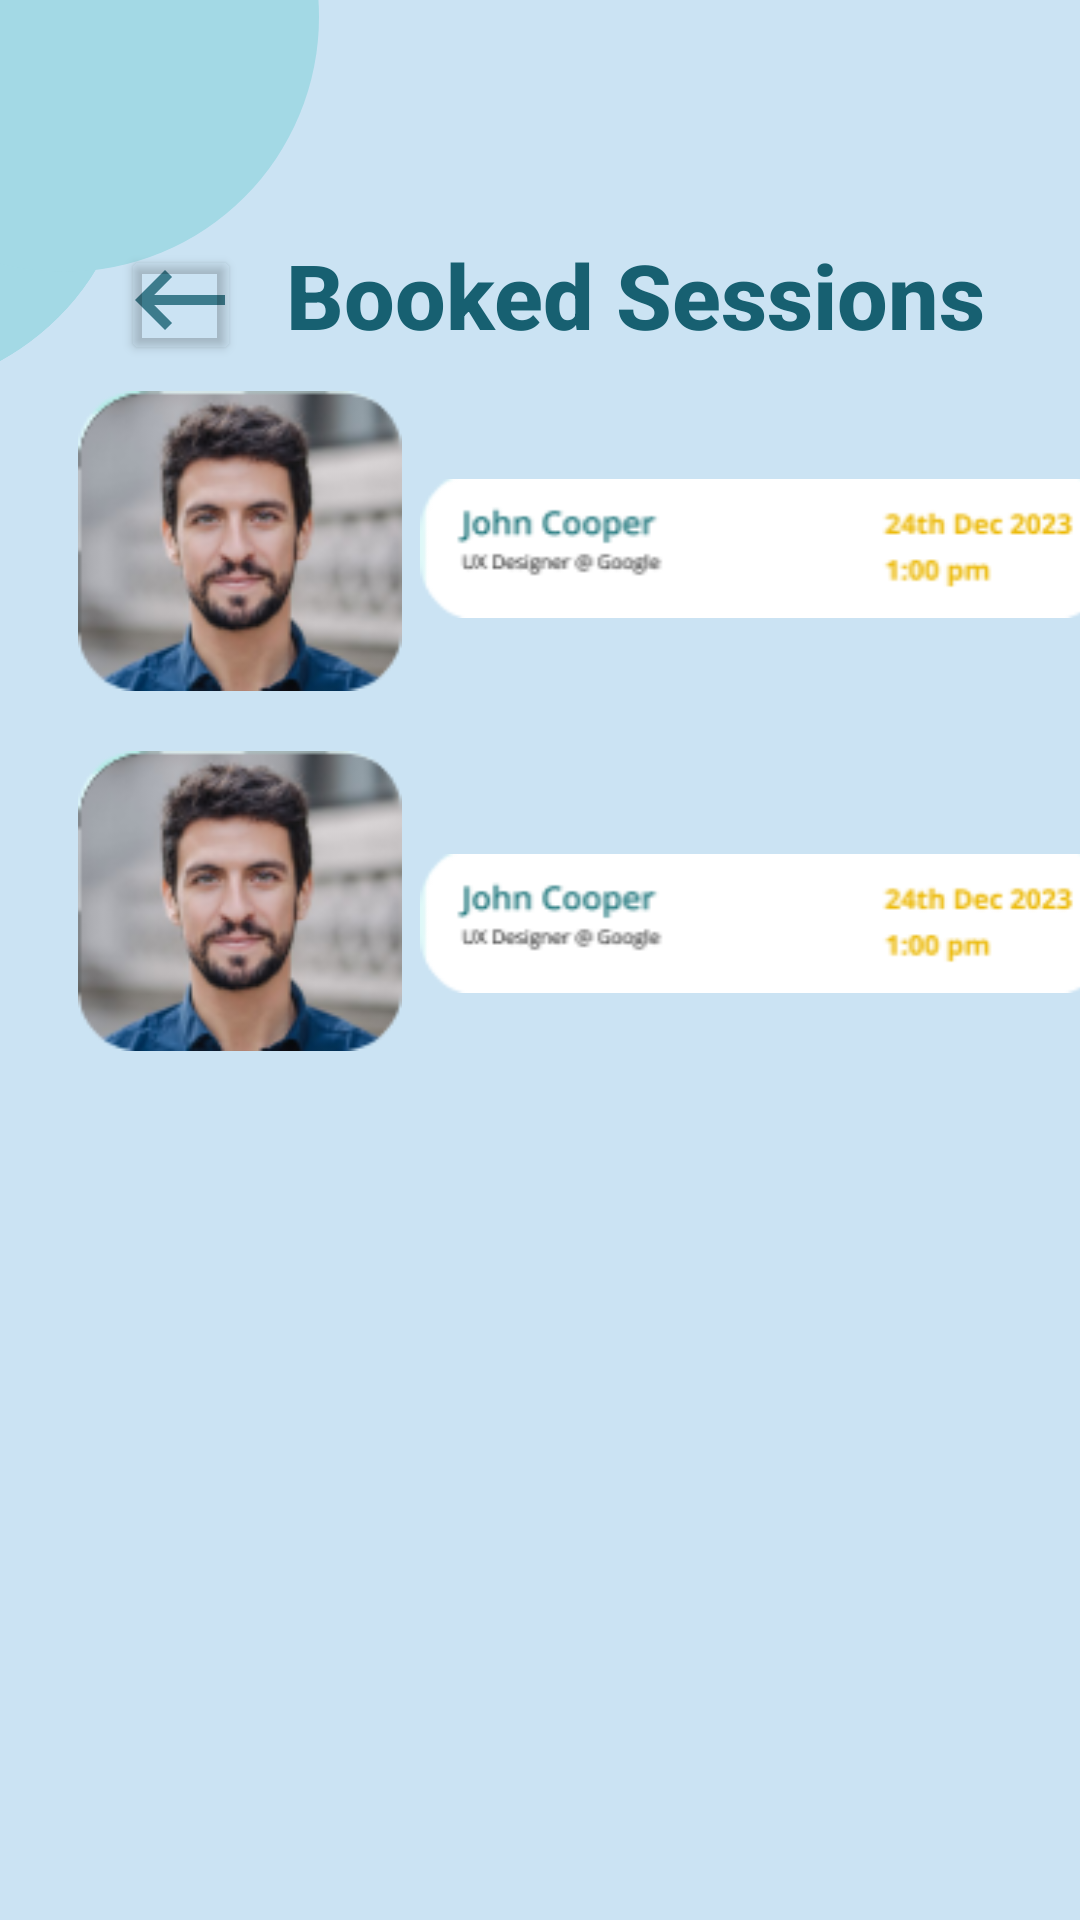

Screen size 1080px x 1920px. Icon name, then its box in pixels as (x1, y1, x2, y2):
booked session mentor: (78, 391, 402, 691), (78, 751, 402, 1051)
